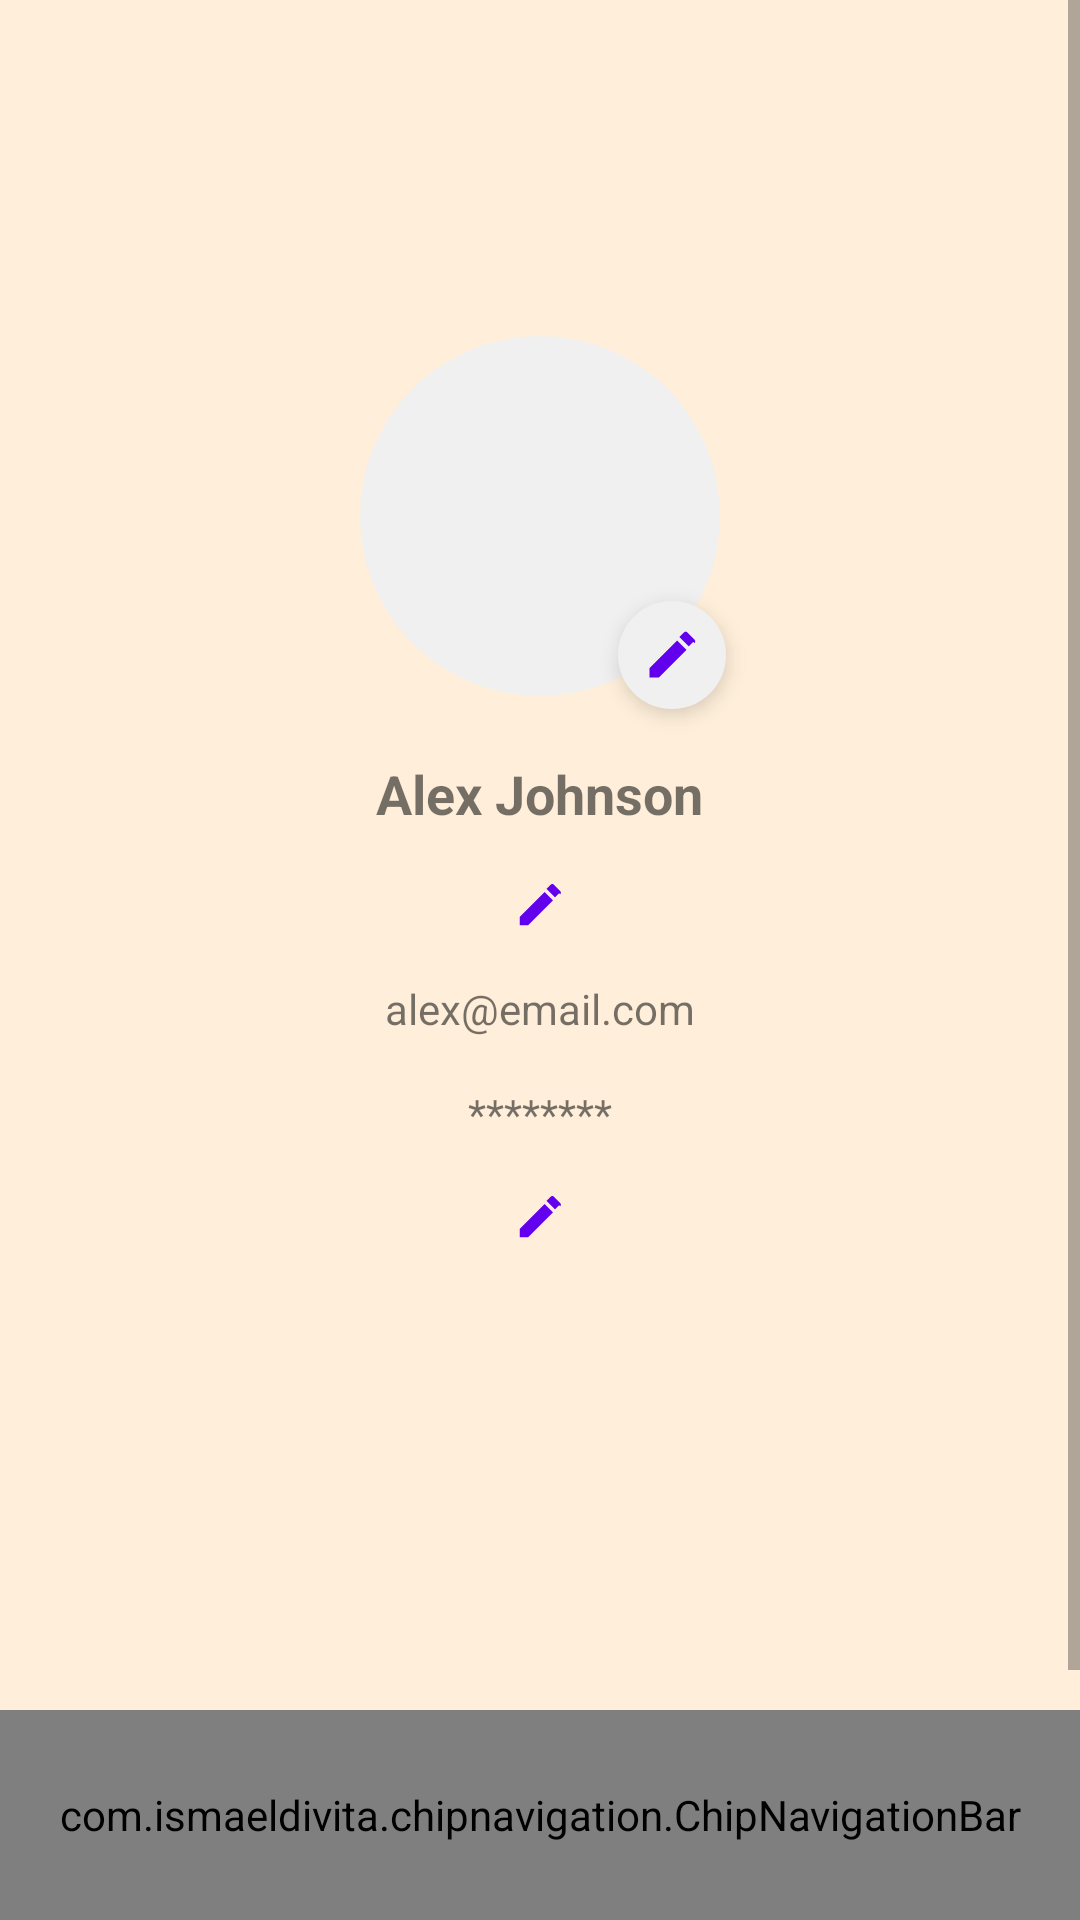

Where to tap for icons on this 1080×1920 app screen, as (x,y):
edit: (672,655)
